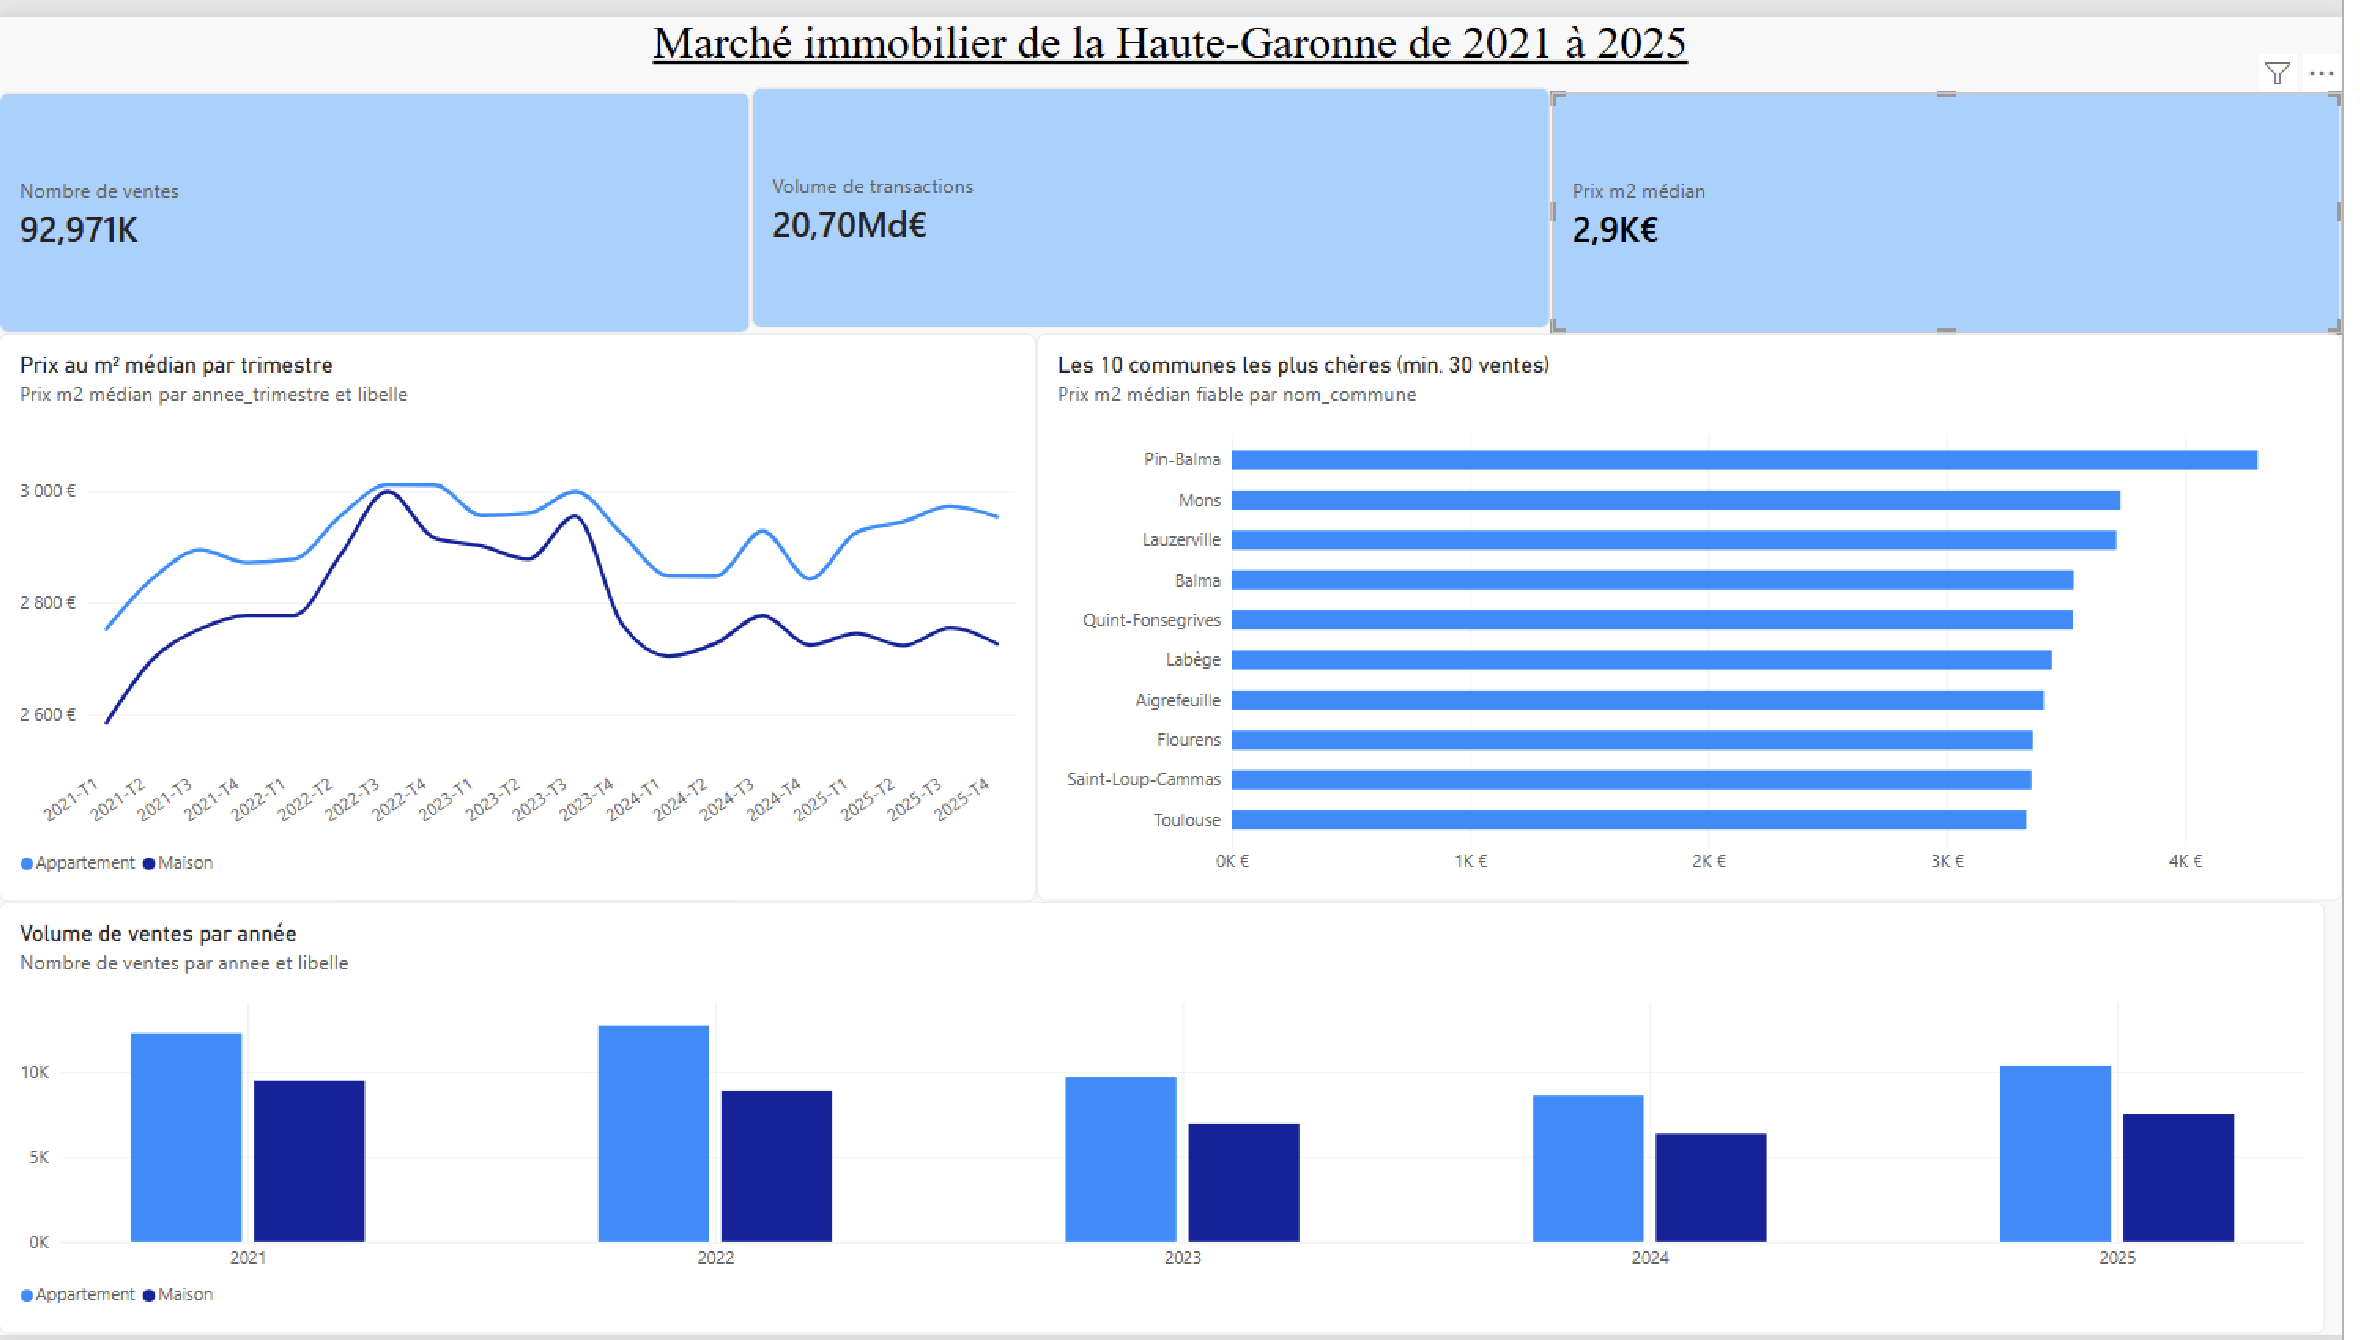

What the dashboard file says about the page in this screenshot:
{"tool":"powerbi","page":{"name":"Page 1","canvas":[1920,1080],"ordinal":0},"visuals":[{"type":"lineChart","title":"Prix au m² médian par trimestre","fields":{"Category":["dim_date.annee_trimestre"],"Series":["dim_type_bien.libelle"],"Y":["fct_mutation.Prix m2 médian"]},"box":[0,259.4,850.3,465.8],"z":0},{"type":"cardVisual","fields":{"Data":["fct_mutation.Nombre de ventes"]},"box":[0,61.9,616.6,197.1],"z":1},{"type":"cardVisual","fields":{"Data":["fct_mutation.Prix m2 médian"]},"box":[1272.3,61.9,647.8,197.1],"z":2},{"type":"cardVisual","fields":{"Data":["fct_mutation.Volume de transactions"]},"box":[616.8,58.1,655.5,197.4],"z":3},{"type":"barChart","title":"Les 10 communes les plus chères (min. 30 ventes)","fields":{"Category":["dim_commune.nom_commune"],"Y":["fct_mutation.Prix m2 médian fiable"]},"box":[850.3,259.4,1069.7,464.5],"z":4},{"type":"clusteredColumnChart","title":"Volume de ventes par année","fields":{"Category":["dim_date.annee"],"Series":["dim_type_bien.libelle"],"Y":["fct_mutation.Nombre de ventes"]},"box":[0,725.2,1905.8,353.5],"z":5},{"type":"textbox","box":[0,0,1920,58.1],"z":6}]}

Visuals, with their boxes in screenshot pixels (x1, y1, x2, y2), scaled from the page's 1920x1080 canvas onto the 2360x1340 screenshot:
"Prix au m² médian par trimestre" lineChart: {"left": 0, "top": 322, "right": 1045, "bottom": 900}
cardVisual - fct_mutation.Nombre de ventes: {"left": 0, "top": 77, "right": 758, "bottom": 321}
cardVisual - fct_mutation.Prix m2 médian: {"left": 1564, "top": 77, "right": 2359, "bottom": 321}
cardVisual - fct_mutation.Volume de transactions: {"left": 758, "top": 72, "right": 1564, "bottom": 317}
"Les 10 communes les plus chères (min. 30 ventes)" barChart: {"left": 1045, "top": 322, "right": 2359, "bottom": 898}
"Volume de ventes par année" clusteredColumnChart: {"left": 0, "top": 900, "right": 2343, "bottom": 1338}
textbox: {"left": 0, "top": 0, "right": 2359, "bottom": 72}
